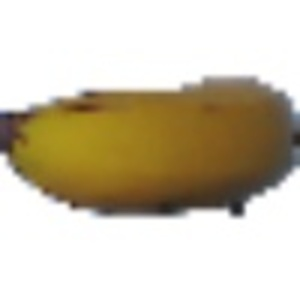banana: (3, 66, 296, 223)
